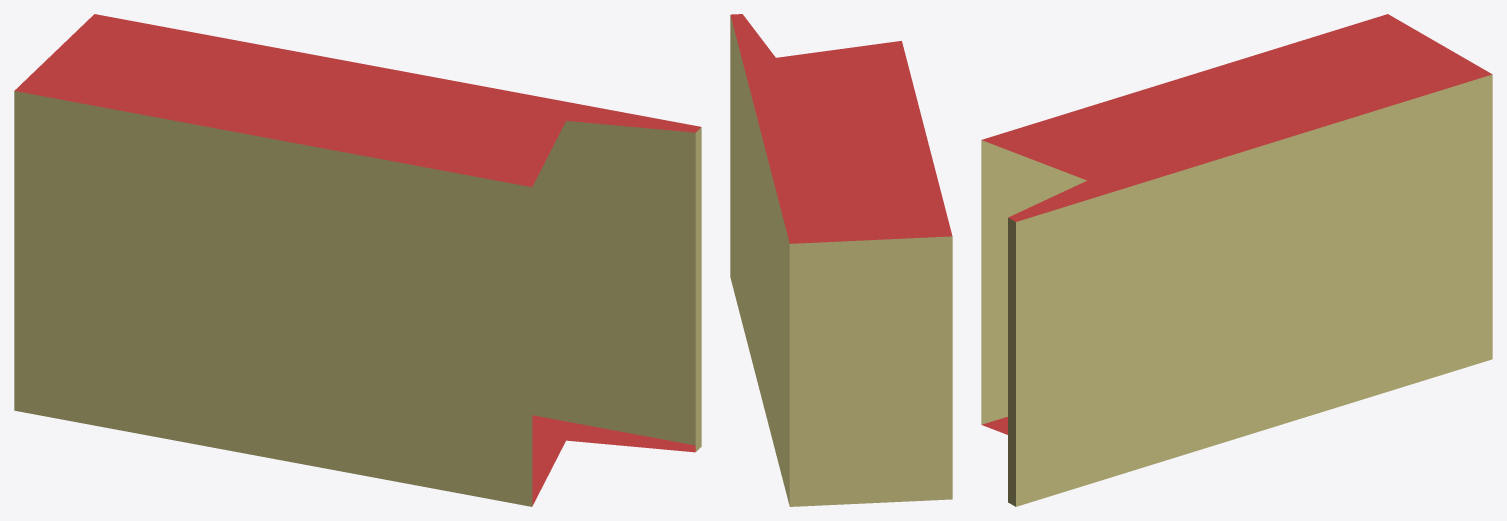
3 renders of one model, left to right at view 1: azimuth 30°, elevation 25°; view 2: azimuth 150°, elevation 25°; view 3: azimuth 270°, elevation 25°, orthographic. The views are drawn at different scales.
Bounding box in the file's own units: 8.92 × 9.27 × 5.7.
